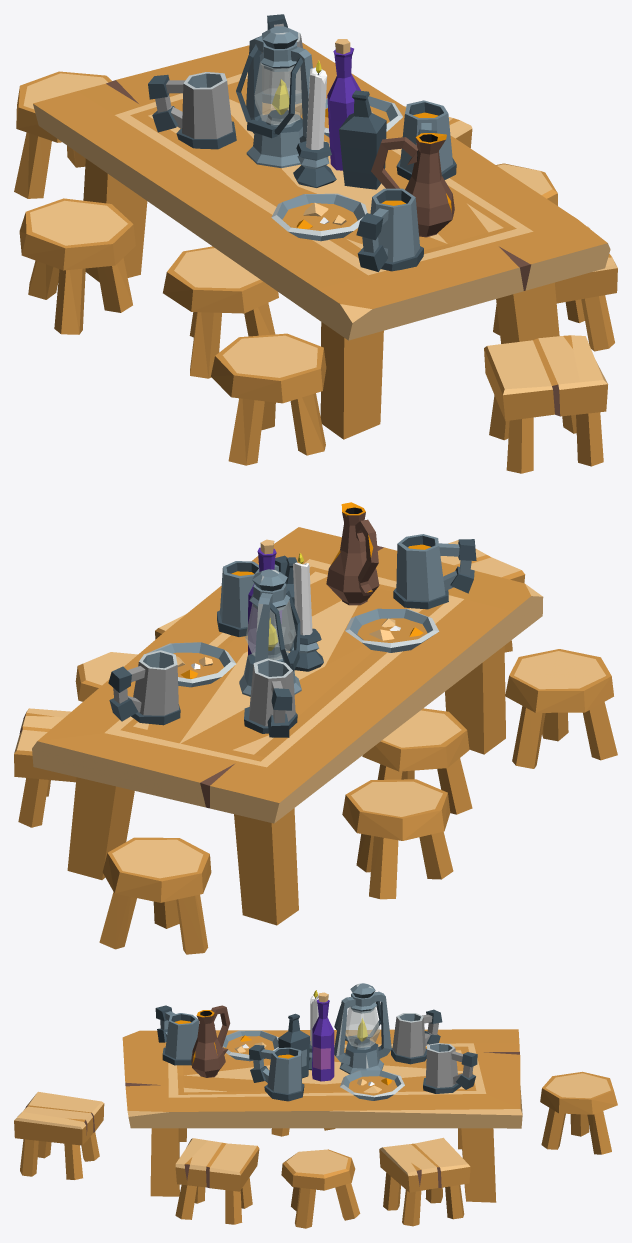
File: BarTable.glb
3 renders of one model, top to bottom at view 1: azimuth 30°, elevation 25°; view 2: azimuth 150°, elevation 25°; view 3: azimuth 270°, elevation 25°, orthographic. The views are drawn at different scales.
Visible parts, largest first — view 1: group57482883, group1422921269, group1736478075, group41030402, group1523682768, group1612428362, group1290912154, group330241672, group734222387, group406415189, group1261245263, group1280995885 (+7 smaller); view 2: group57482883, group330241672, group41030402, group1736478075, group1612428362, group1523682768, group734222387, group1698681086, group406415189, group1627728751, group1290912154, group1280995885 (+7 smaller); view 3: group57482883, group1627728751, group1422921269, group1261245263, group330241672, group1523682768, group1294191787, group409571200, group1698681086, group1290912154, group406415189, group734222387 (+5 smaller).
Boxes of the visible parts, <box> form: group57482883: <box>33,43,610,439</box>; group1422921269: <box>484,335,608,473</box>; group1736478075: <box>19,198,135,334</box>; group41030402: <box>211,333,326,465</box>; group1523682768: <box>236,26,312,168</box>; group1612428362: <box>163,246,278,378</box>; group1290912154: <box>148,72,236,149</box>; group330241672: <box>14,71,111,198</box>; group734222387: <box>356,188,423,271</box>; group406415189: <box>371,133,454,237</box>; group1261245263: <box>493,226,617,351</box>; group1280995885: <box>271,193,367,241</box>; group57482883: <box>32,527,543,925</box>; group330241672: <box>99,837,211,954</box>; group41030402: <box>505,649,617,768</box>; group1736478075: <box>342,779,453,899</box>; group1612428362: <box>362,708,472,814</box>; group1523682768: <box>239,569,301,696</box>; group734222387: <box>393,534,476,609</box>; group1698681086: <box>108,650,180,725</box>; group406415189: <box>326,502,379,605</box>; group1627728751: <box>14,708,76,827</box>; group1290912154: <box>244,658,297,737</box>; group1280995885: <box>345,608,439,652</box>; group57482883: <box>122,1029,522,1202</box>; group1627728751: <box>379,1137,470,1226</box>; group1422921269: <box>14,1091,104,1179</box>; group1261245263: <box>175,1138,259,1224</box>; group330241672: <box>540,1071,617,1154</box>; group1523682768: <box>334,983,391,1074</box>; group1294191787: <box>281,1149,360,1228</box>; group409571200: <box>249,1045,304,1101</box>; group1698681086: <box>423,1043,477,1093</box>; group1290912154: <box>391,1009,442,1064</box>; group406415189: <box>191,1005,230,1077</box>; group734222387: <box>155,1005,198,1065</box>.
Bounding box in the file's own units: 1.87 × 1.11 × 3.24.
